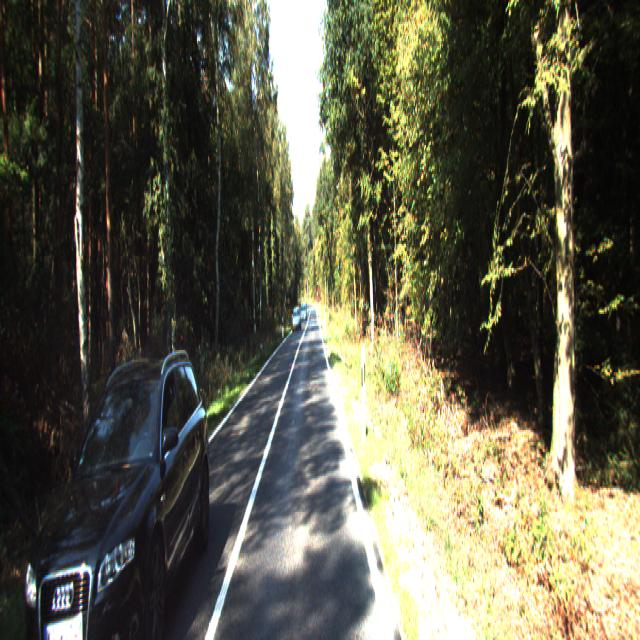Car: (26, 340, 218, 638), (292, 307, 302, 333)
